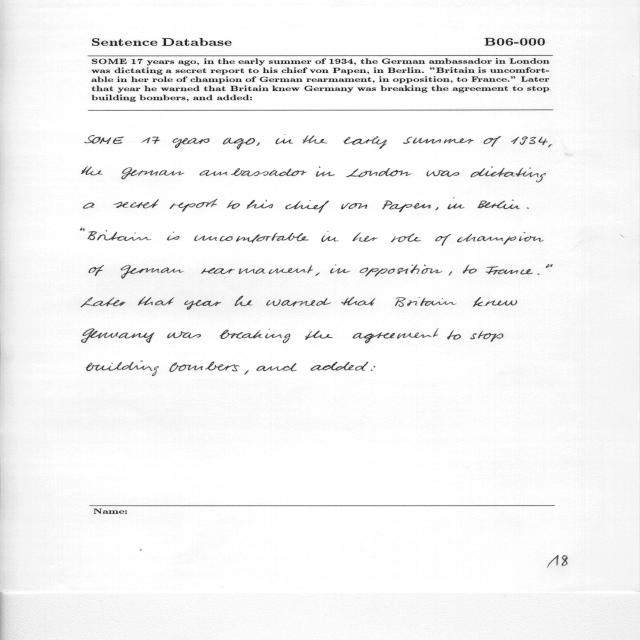word: (353, 329, 438, 344), (470, 167, 546, 183), (194, 233, 309, 243), (457, 232, 543, 245), (82, 328, 155, 343), (86, 361, 159, 376), (201, 265, 313, 274), (220, 329, 291, 343), (360, 265, 442, 277), (200, 168, 307, 177), (120, 265, 184, 279), (122, 168, 185, 180), (170, 362, 240, 372), (88, 230, 151, 241), (170, 199, 218, 212), (395, 297, 456, 307), (382, 201, 431, 213), (346, 168, 411, 177), (343, 136, 387, 149), (285, 200, 329, 213), (311, 362, 369, 371), (266, 298, 331, 306), (403, 137, 474, 144), (81, 297, 126, 307), (473, 297, 517, 307), (486, 266, 533, 275), (478, 200, 520, 210), (113, 200, 159, 209), (470, 331, 504, 342), (173, 138, 210, 148), (185, 300, 222, 310), (223, 138, 255, 149), (85, 135, 124, 144), (511, 136, 548, 145), (256, 364, 297, 372), (138, 297, 174, 306), (342, 297, 376, 306), (305, 330, 333, 340), (391, 234, 421, 243), (352, 232, 378, 242), (167, 331, 201, 338), (247, 200, 273, 209), (427, 170, 460, 177), (303, 135, 327, 144), (316, 166, 335, 177), (483, 136, 501, 147), (81, 167, 103, 176), (435, 234, 451, 246), (322, 231, 339, 242), (330, 265, 350, 274), (235, 296, 252, 306), (89, 265, 104, 276), (341, 203, 367, 209), (447, 330, 461, 340), (141, 137, 160, 144), (463, 265, 477, 274), (227, 200, 240, 209), (275, 138, 293, 144), (167, 232, 179, 241), (448, 204, 465, 210), (84, 203, 95, 209), (546, 264, 553, 268), (315, 273, 320, 277), (245, 370, 249, 375), (371, 366, 375, 371), (256, 142, 260, 146), (548, 144, 552, 148), (81, 227, 85, 231), (449, 271, 452, 276), (435, 207, 438, 210), (527, 207, 529, 209), (538, 273, 540, 275)
